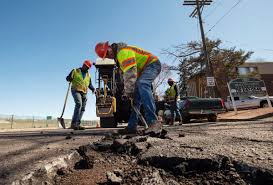pothole: (57, 133, 169, 185), (177, 148, 273, 178)
